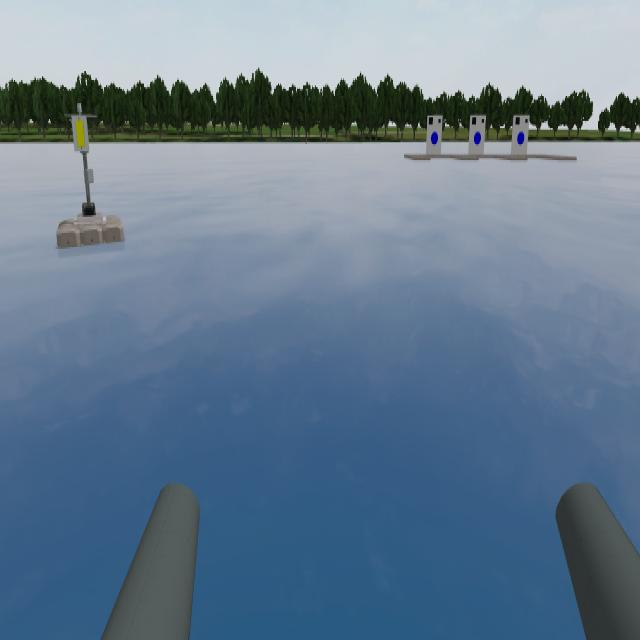yellow_pole: (64, 101, 100, 159)
